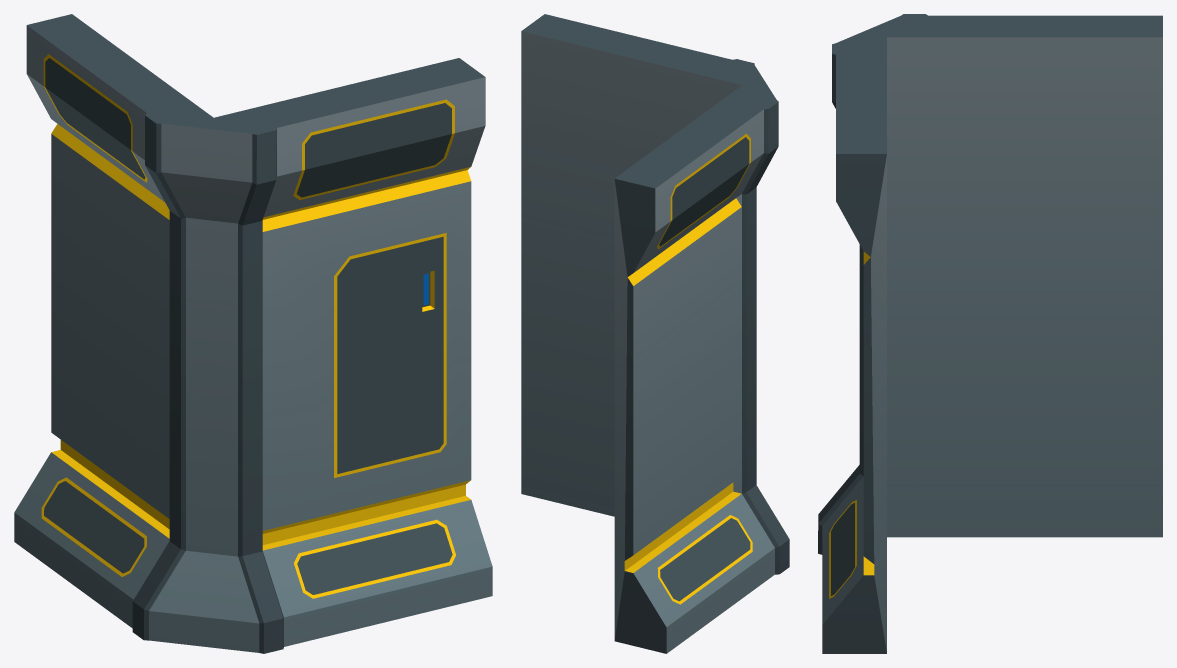
Rendered from Wall_type_C_001.fbx.
3 views of the same model, side by side, from view 1: azimuth 30°, elevation 25°; view 2: azimuth 150°, elevation 25°; view 3: azimuth 270°, elevation 25° (orthographic). The views are drawn at different scales.
Visible parts, largest first — view 1: Wall_type_C_001; view 2: Wall_type_C_001; view 3: Wall_type_C_001.
Boxes of the visible parts, x1,y1,x2,y2 form: Wall_type_C_001: [14, 14, 492, 653]; Wall_type_C_001: [521, 14, 789, 653]; Wall_type_C_001: [818, 14, 1162, 653].
Size of the model in its own units: 250 by 250 by 400.
